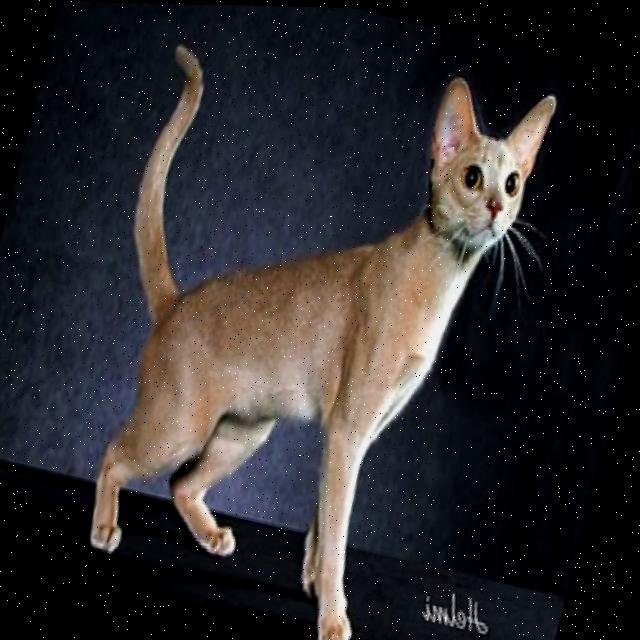Abyssinian: (26, 1, 565, 640)
